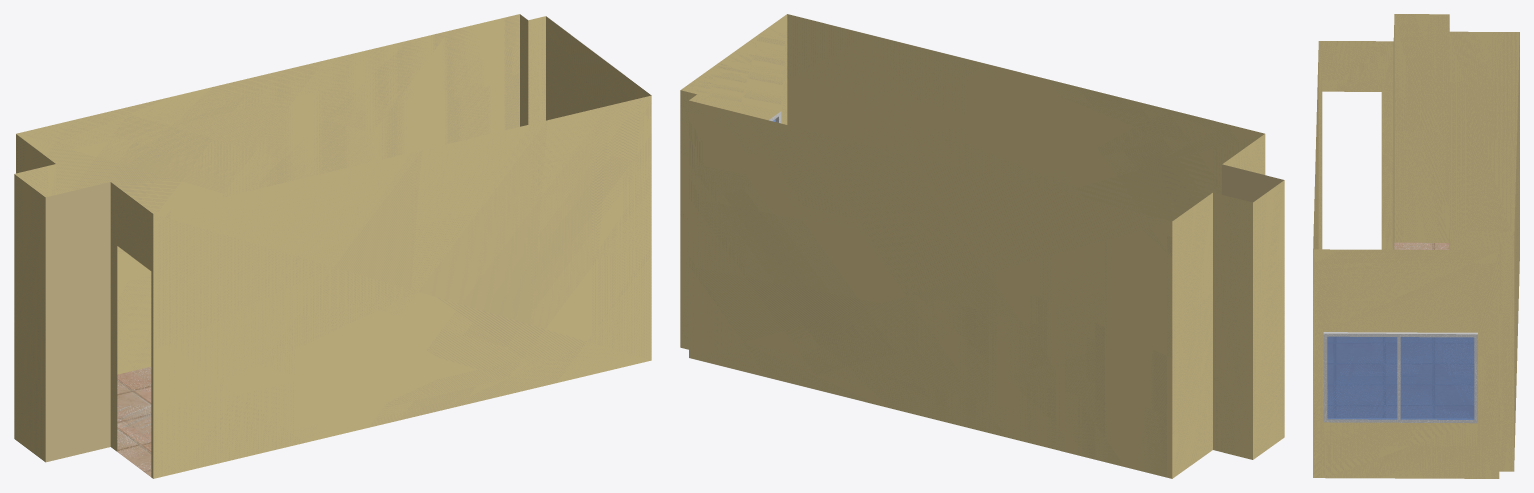
The model's file is DES008.obj.
The picture shows the model from 3 angles, left to right: view 1: azimuth 30°, elevation 25°; view 2: azimuth 150°, elevation 25°; view 3: azimuth 270°, elevation 25°; orthographic projection. The views are drawn at different scales.
Parts seen in each view (by area): view 1: Mesh6 DES008 Model; view 2: Mesh6 DES008 Model; view 3: Mesh6 DES008 Model, Mesh1 ventana2_1 DES008 Model.
Boxes of the visible parts, bbox=[...] form: Mesh6 DES008 Model: bbox=[14, 14, 651, 478]; Mesh6 DES008 Model: bbox=[680, 14, 1284, 478]; Mesh6 DES008 Model: bbox=[1313, 14, 1519, 478]; Mesh1 ventana2_1 DES008 Model: bbox=[1323, 332, 1477, 423].
Bounding box in the file's own units: 8.02 × 3.6 × 2.95.
Materials: 8 (2 with a texture image).
